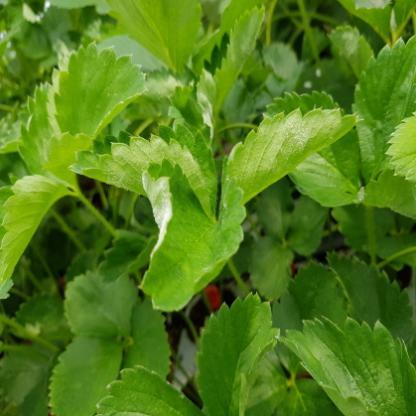Strawberry_Powdery_Mildew_Leaf: (219, 90, 367, 212), (138, 157, 247, 312), (66, 123, 217, 217), (326, 24, 376, 80)
